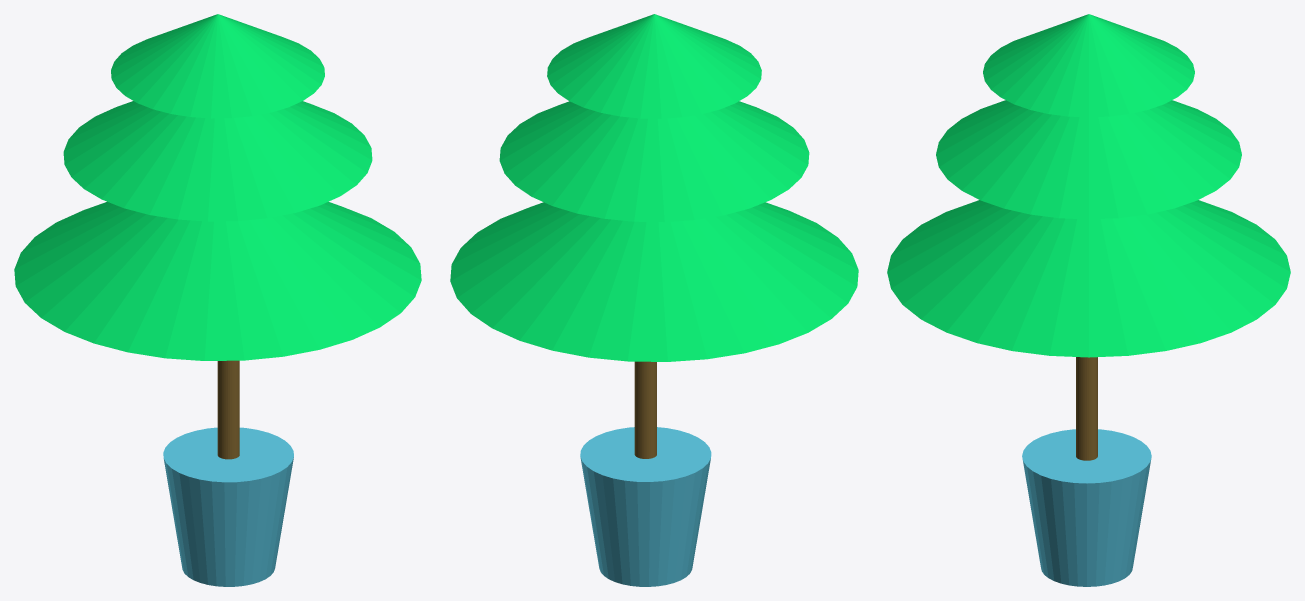
File: plant.glb
3 renders of one model, left to right at view 1: azimuth 30°, elevation 25°; view 2: azimuth 150°, elevation 25°; view 3: azimuth 270°, elevation 25°, orthographic.
Parts seen in each view (by area): view 1: plant; view 2: plant; view 3: plant.
Boxes of the visible parts, bbox=[...] form: plant: bbox=[14, 14, 421, 586]; plant: bbox=[450, 14, 858, 586]; plant: bbox=[887, 14, 1290, 586].
Bounding box in the file's own units: 0.4 × 0.6 × 0.4.
